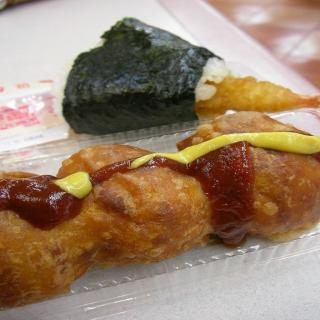Sushi: (60, 28, 248, 135)
